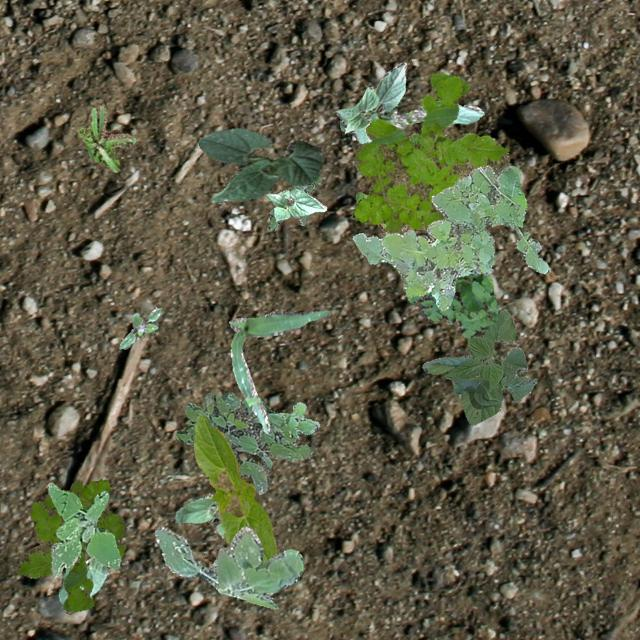crop: (422, 308, 536, 424), (194, 412, 276, 566), (228, 308, 328, 432), (196, 126, 322, 204), (334, 61, 406, 142), (339, 100, 483, 130), (58, 556, 110, 612), (172, 494, 224, 536), (266, 188, 326, 220)
weed: (352, 164, 548, 310), (354, 72, 508, 232), (12, 478, 126, 612), (174, 392, 318, 494), (154, 526, 304, 608), (46, 482, 120, 576), (354, 132, 418, 236), (406, 272, 498, 338), (76, 104, 134, 170), (266, 176, 322, 230), (118, 306, 160, 348)
